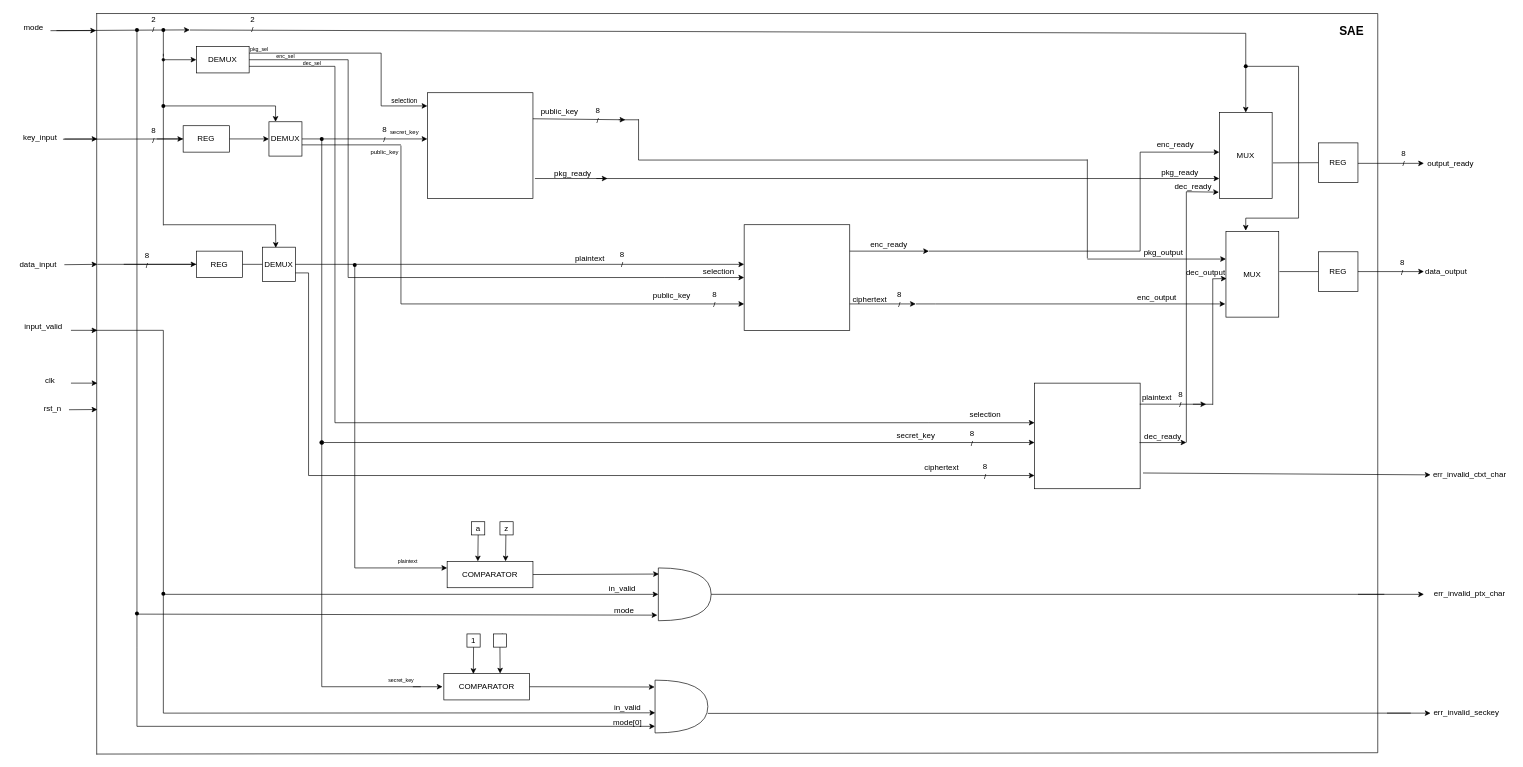
Image size: 1523x767. Some labels were removed from this diagram. Each missing label, with the centre of its shape:
DECRYPTION_MOD: the point at 1087,435
ENCRYPTION_MOD: the point at 796,277
p-1: the point at 500,640
PUBLIC_KEY_GEN_MOD: the point at 480,145
